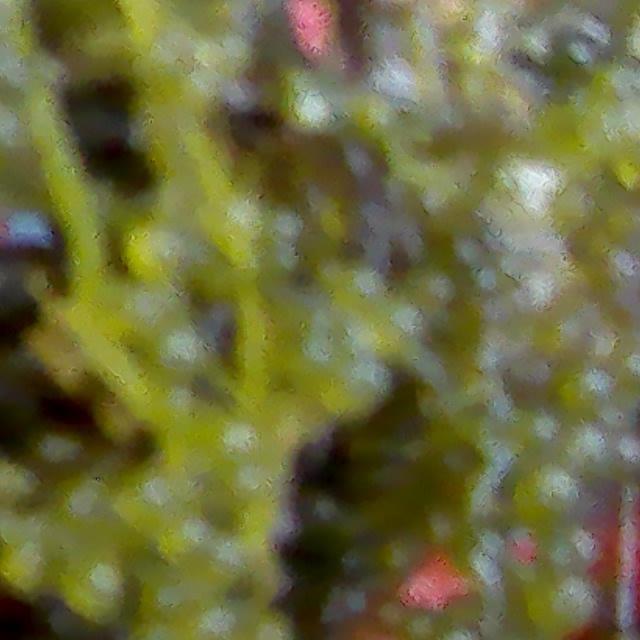SeaGrape: (59, 546, 120, 620), (0, 537, 47, 596)
